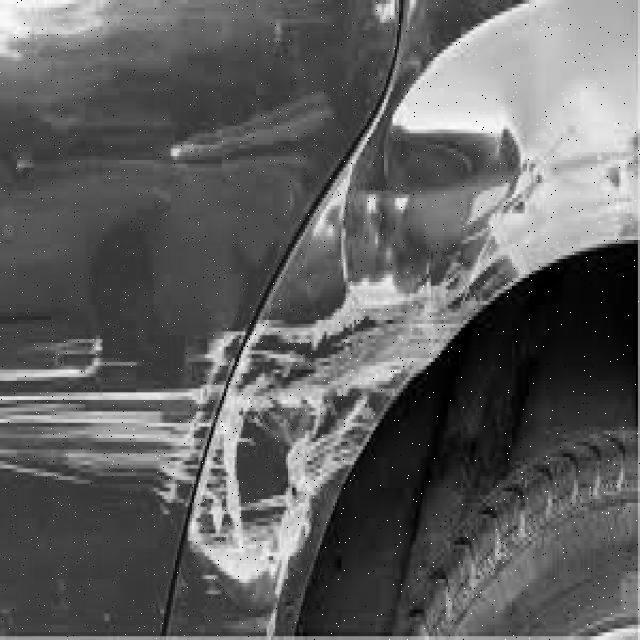quaterpanel-dent: (307, 12, 637, 633)
